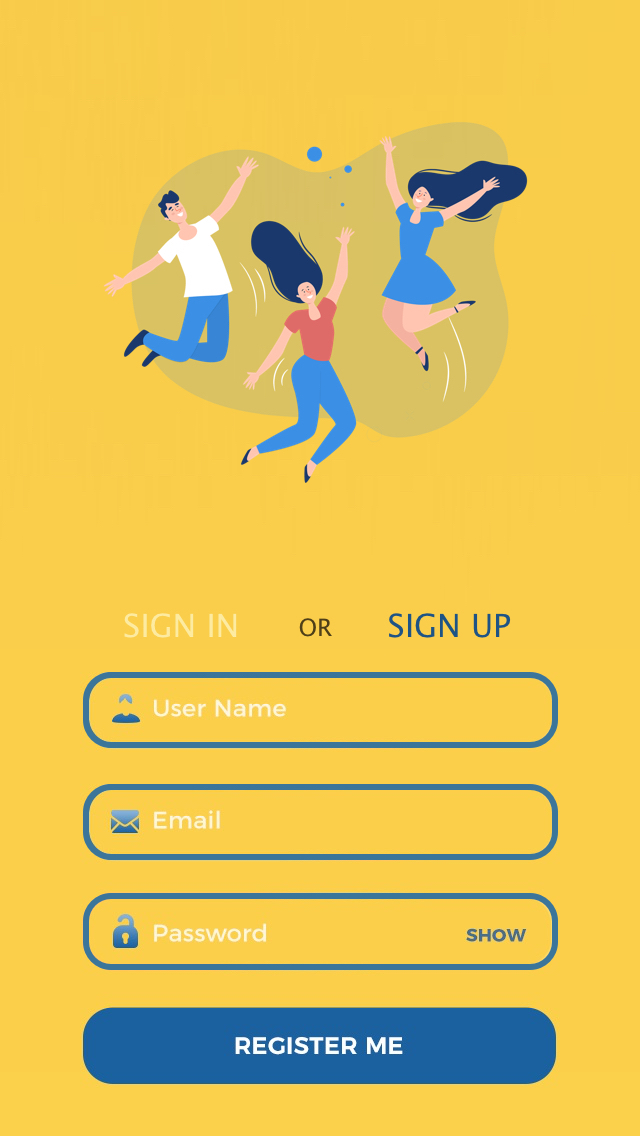EditText: (84, 893, 559, 971), (84, 672, 559, 749), (84, 784, 559, 861)
Icon: (113, 913, 139, 949), (112, 694, 141, 724), (111, 809, 141, 834)
Image: (104, 122, 528, 484)
Text: (388, 613, 511, 639), (124, 613, 238, 639), (154, 699, 288, 718), (153, 924, 267, 943), (154, 810, 221, 831), (299, 618, 333, 637)
TextButton: (83, 1007, 557, 1085)
